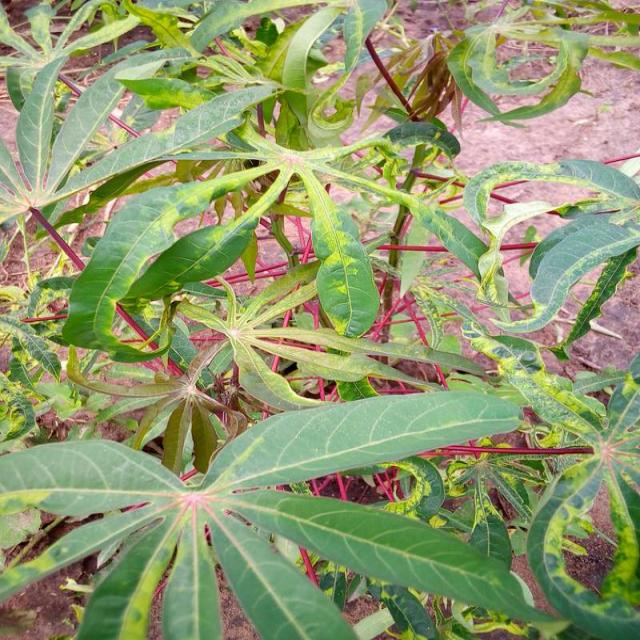cassava leaf: (2, 1, 639, 638), (1, 387, 536, 638), (62, 160, 288, 362), (201, 387, 525, 495)
